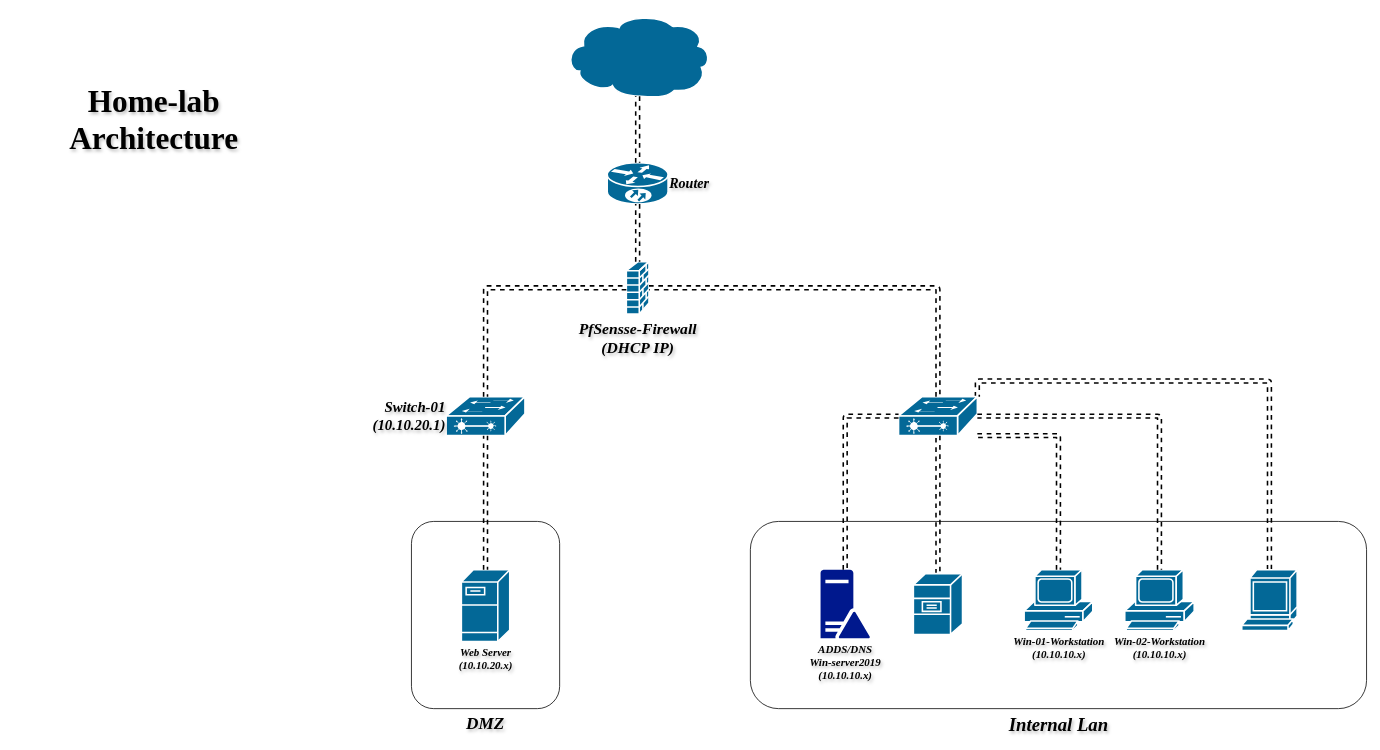
The diagram is 1380 pixels wide and 750 high, and some of its shapes have lost their labels. The centre of each missing label's shape, as x and y in pixels:
"INTERNET" goes at [637,55].
"Linux-Workstation (10.10.10.x)" goes at [1269,600].
"Log-Server SIEM-Engine (10.10.10.x)" goes at [937,603].
"Switch-02 (10.10.10.1)" goes at [937,415].
